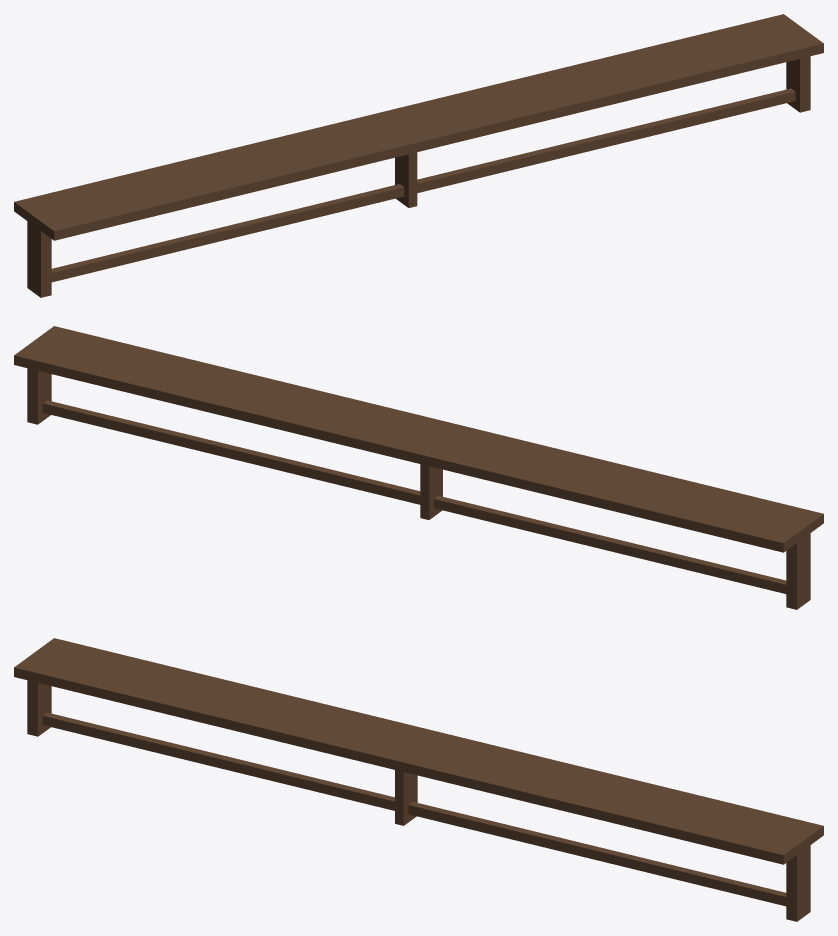
Rendered from bench2.fbx.
The picture shows the model from 3 angles, top to bottom: view 1: azimuth 30°, elevation 25°; view 2: azimuth 150°, elevation 25°; view 3: azimuth 330°, elevation 25°; orthographic projection.
Visible parts, largest first — view 1: Cube.002; view 2: Cube.002; view 3: Cube.002.
Boxes of the visible parts, box(x1,y1,x2,y2) form: Cube.002: box(14, 14, 823, 297); Cube.002: box(14, 326, 823, 609); Cube.002: box(14, 638, 823, 921).
Size of the model in its own units: 1711 by 162 by 155.
